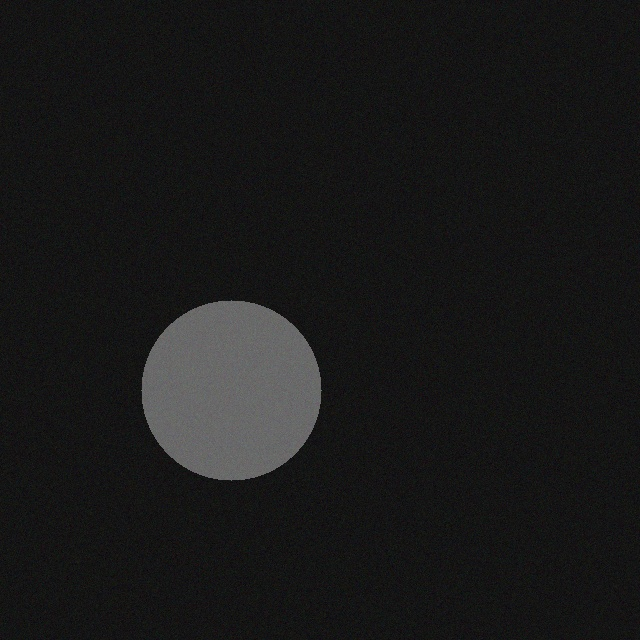circle: (143, 310, 323, 490)
